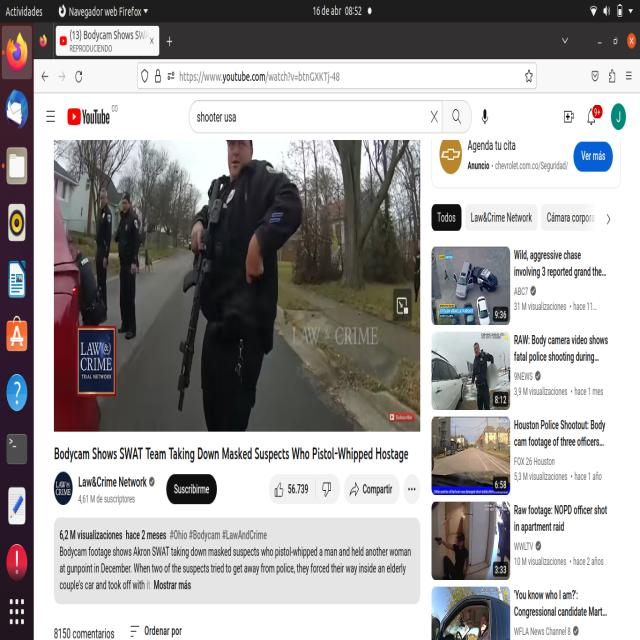Rifle: (174, 168, 227, 416)
